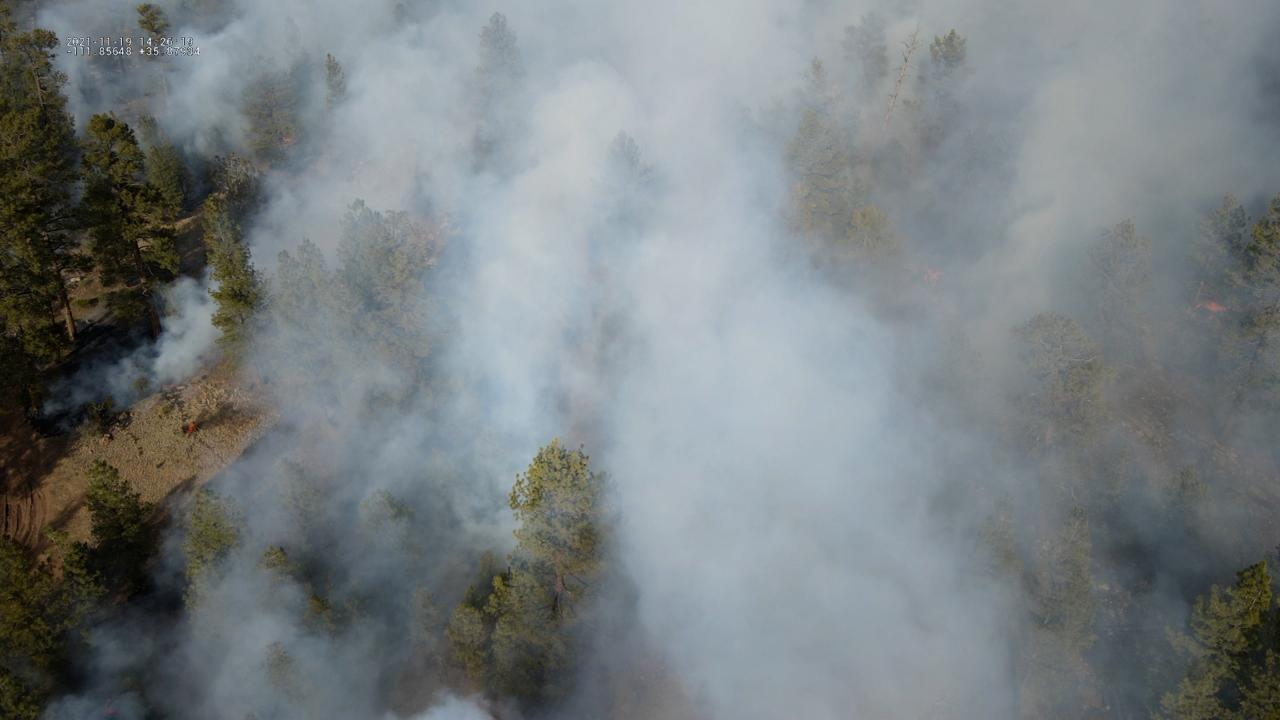fire: (1187, 300, 1228, 314), (922, 266, 940, 286), (187, 423, 195, 433)
smoke: (0, 0, 1280, 720)
